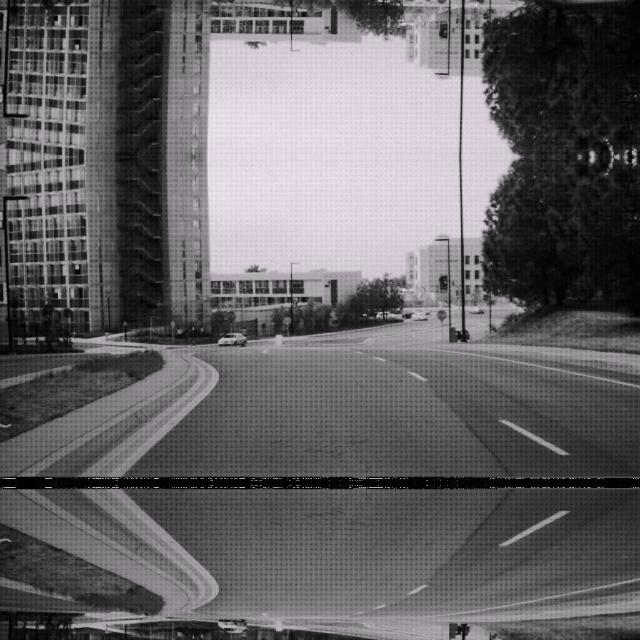stop: (436, 308, 446, 318), (435, 0, 447, 5)
